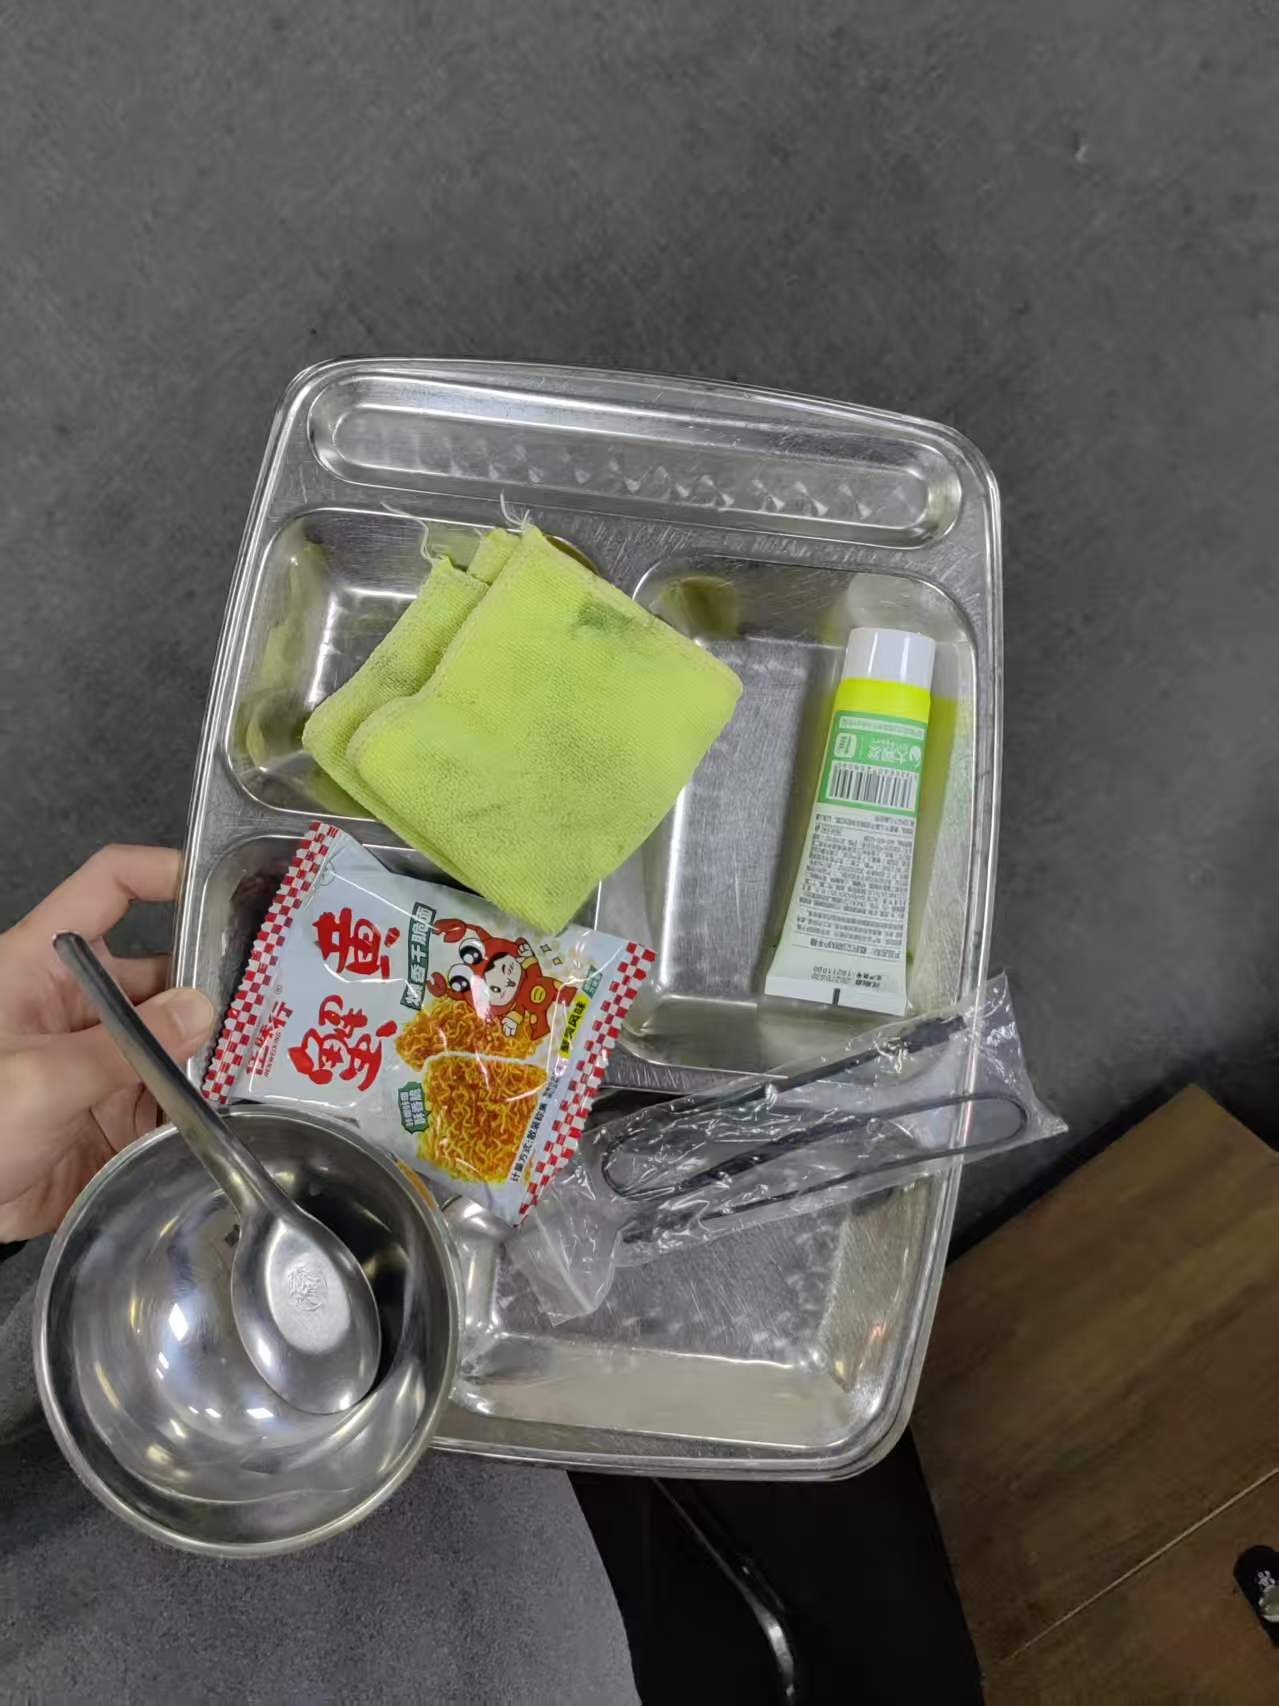plate: (167, 352, 1005, 1485)
severe: (195, 516, 1070, 1326)
